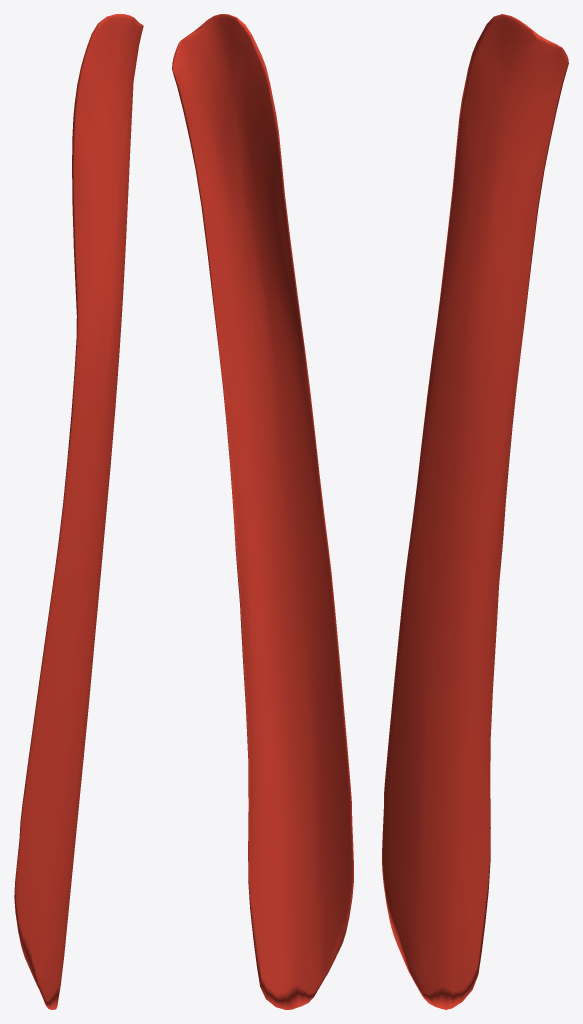
The model's file is Origin_of_vastus_intermedius.l_Generated_Mesh_From_X3D.865.glb.
3 renders of one model, left to right at view 1: azimuth 30°, elevation 25°; view 2: azimuth 150°, elevation 25°; view 3: azimuth 330°, elevation 25°, orthographic. The views are drawn at different scales.
Parts seen in each view (by area): view 1: Origin_of_vastus_intermedius.l_Generated_Mesh_From_X3D.865; view 2: Origin_of_vastus_intermedius.l_Generated_Mesh_From_X3D.865; view 3: Origin_of_vastus_intermedius.l_Generated_Mesh_From_X3D.865.
Boxes of the visible parts, x1,y1,x2,y2 form: Origin_of_vastus_intermedius.l_Generated_Mesh_From_X3D.865: (14,14,143,1009); Origin_of_vastus_intermedius.l_Generated_Mesh_From_X3D.865: (172,14,353,1009); Origin_of_vastus_intermedius.l_Generated_Mesh_From_X3D.865: (382,14,568,1009).
Size of the model in its own units: 0.0483 by 0.297 by 0.0213.
